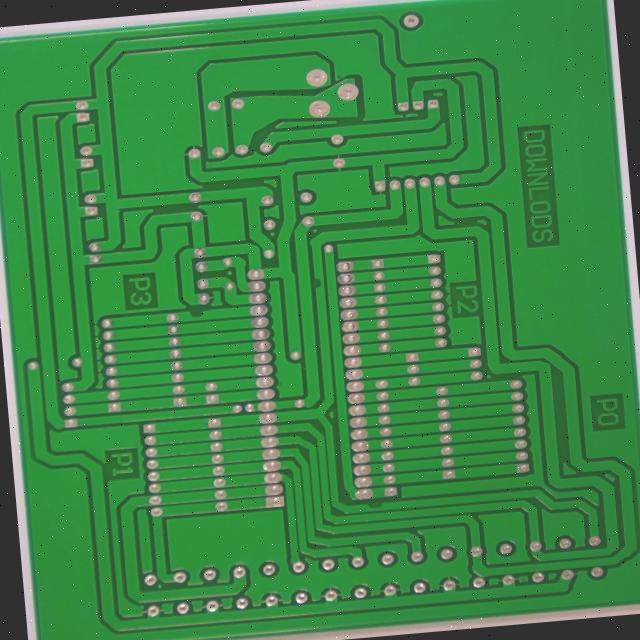mouse_bite: (188, 300, 210, 318), (313, 267, 332, 287), (369, 496, 392, 511)
